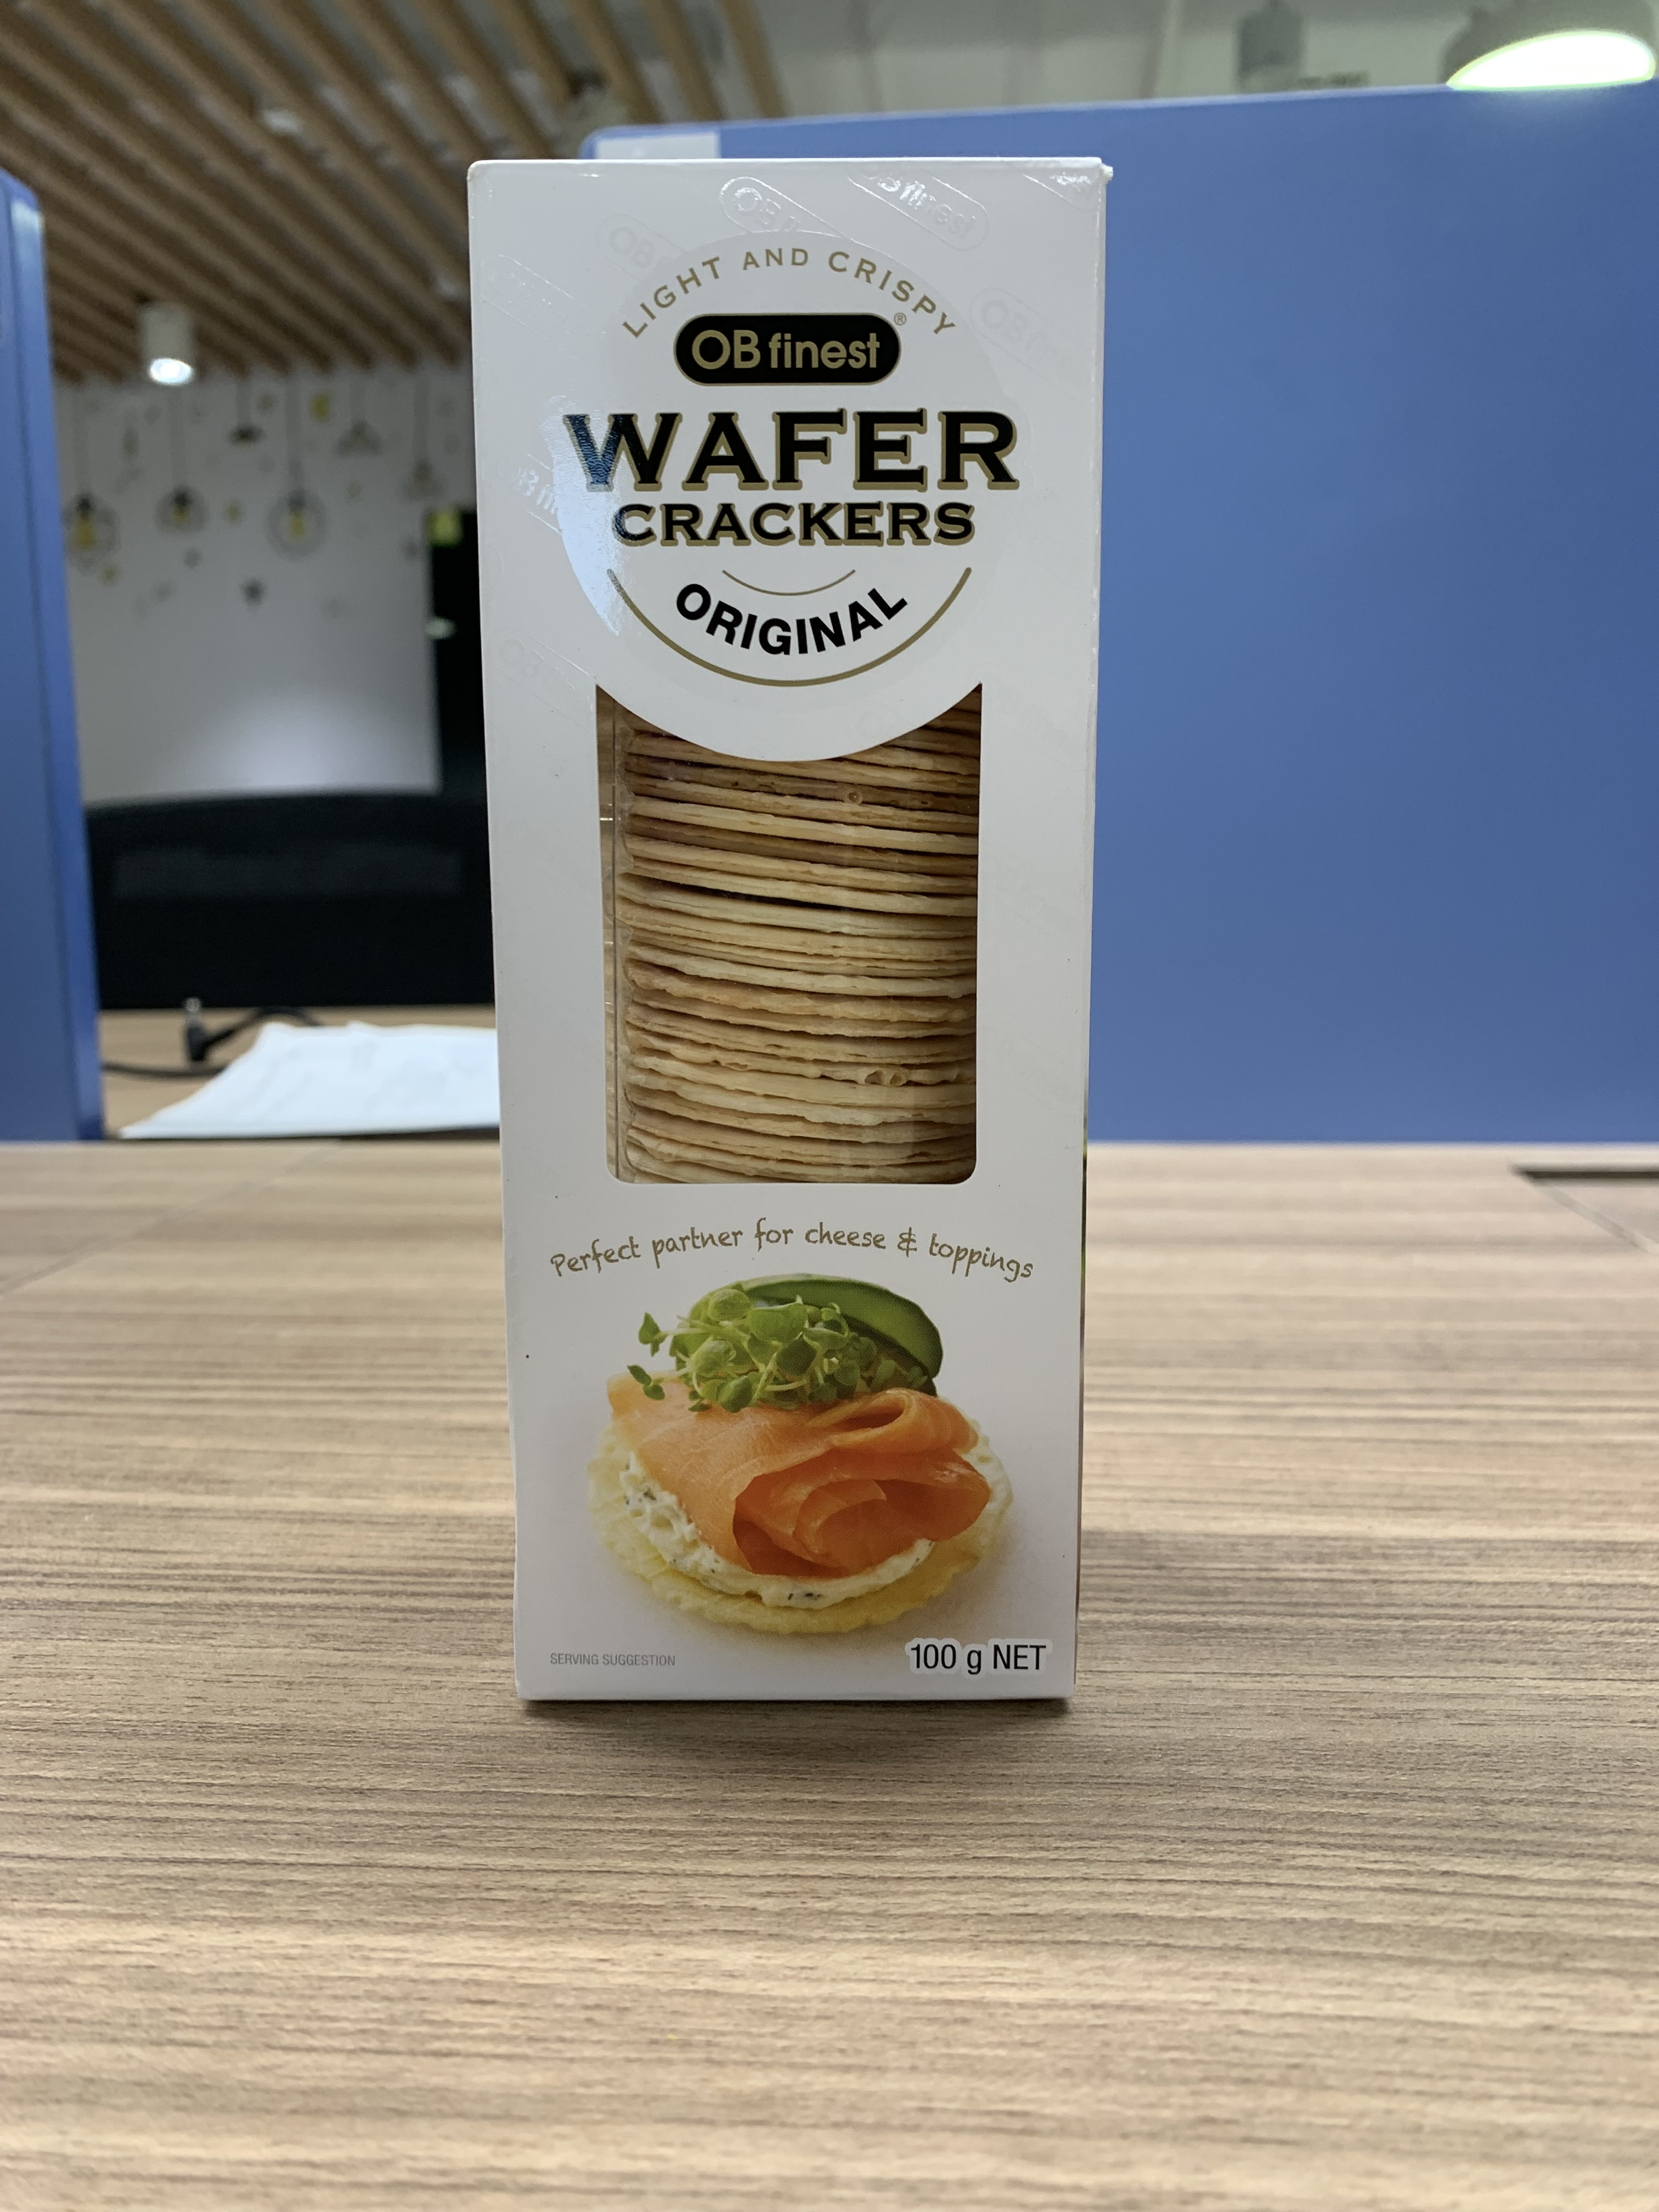crackers: (448, 138, 1136, 1730)
